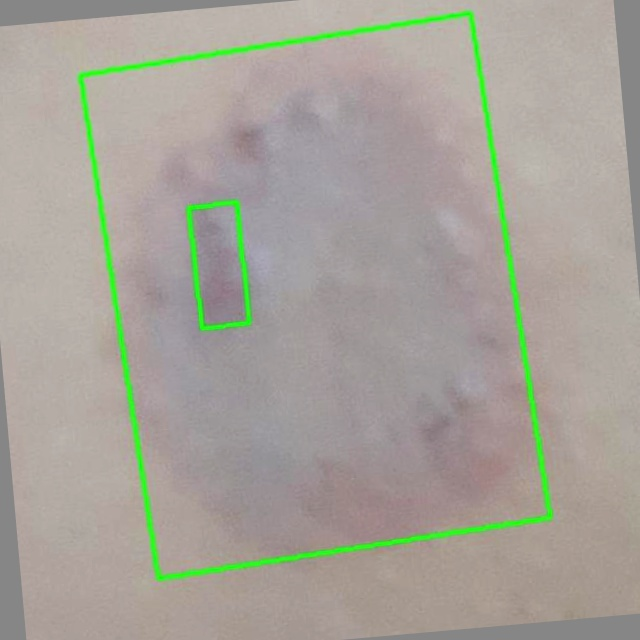Eczema: (80, 13, 550, 579), (189, 202, 249, 328)
